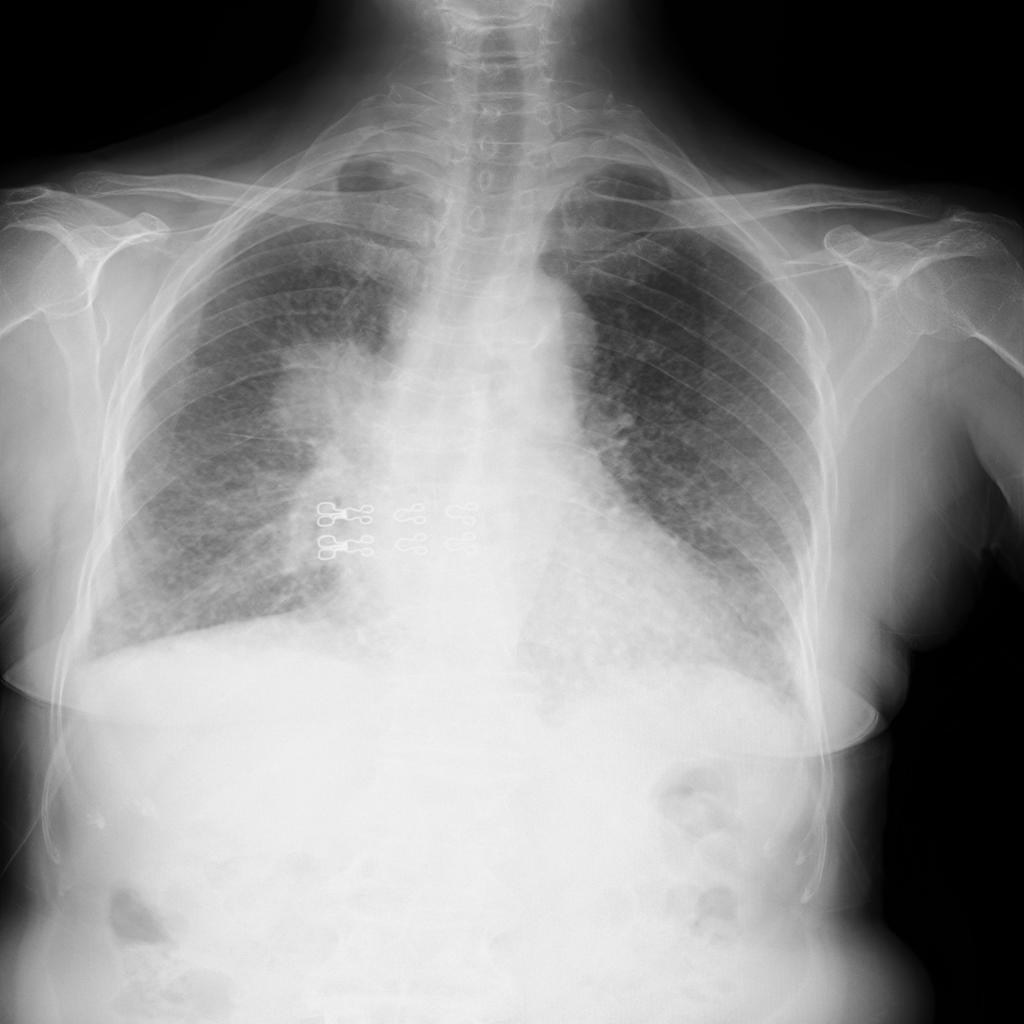Nodule: (821, 681, 840, 699)
